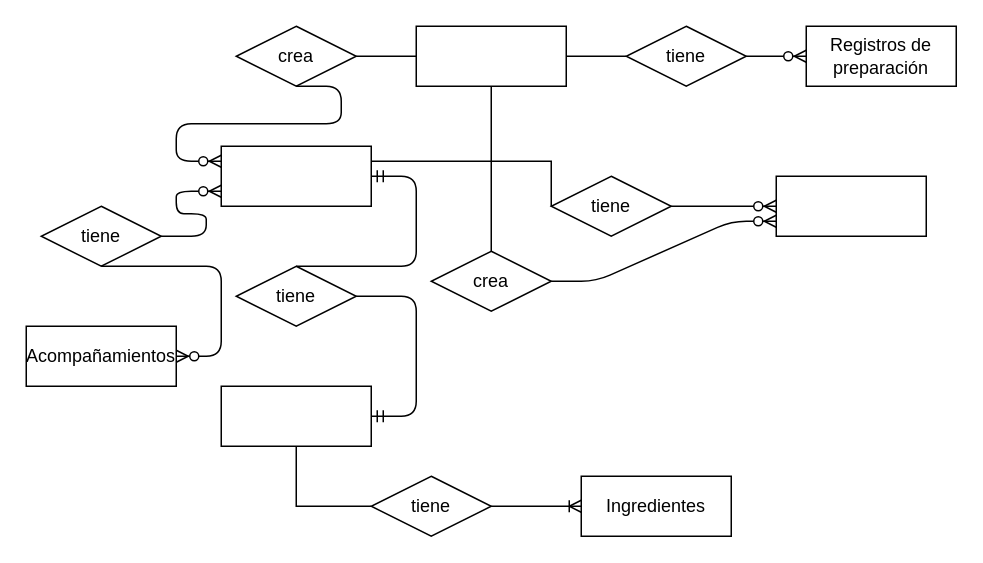
Some shapes in this 983 by 563 pixel diagram are drawn without their labels. The centre of each missing label's shape, as x and y in pixels:
"Categorías" belongs at point (850, 205).
"Cócteles" belongs at point (295, 175).
"Recetas" belongs at point (295, 415).
"Usuarios" belongs at point (490, 55).
